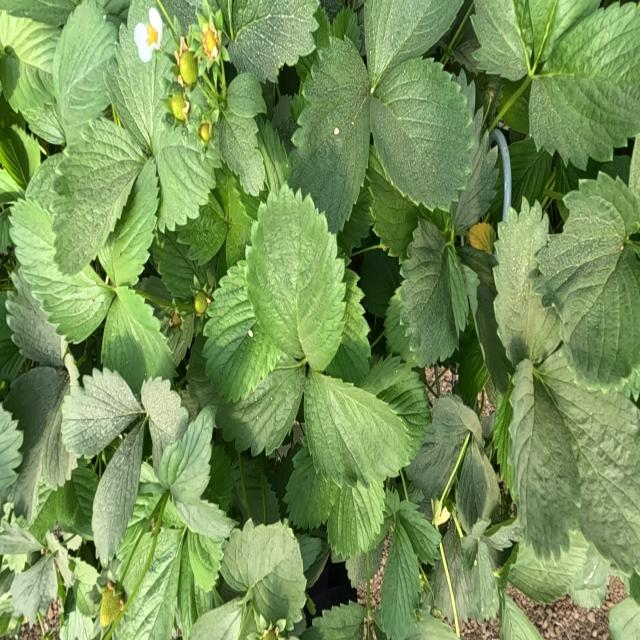Flowers: (134, 12, 161, 62)
Leaves: (521, 350, 639, 571), (538, 175, 639, 390), (246, 184, 346, 370), (531, 4, 639, 167), (502, 359, 580, 563), (288, 40, 370, 233), (372, 58, 474, 210), (53, 118, 146, 274), (16, 201, 114, 343), (304, 372, 413, 495), (492, 200, 559, 363), (204, 263, 277, 403), (3, 368, 68, 522), (219, 339, 305, 452), (109, 0, 172, 152), (472, 0, 590, 80), (51, 4, 117, 143), (393, 220, 456, 363), (221, 521, 305, 624), (115, 521, 188, 638), (458, 244, 512, 393), (365, 0, 463, 82), (1, 21, 64, 144), (102, 287, 173, 395), (99, 163, 159, 286), (230, 0, 319, 80), (62, 369, 142, 457), (92, 428, 143, 563), (154, 118, 215, 228), (406, 395, 468, 499), (360, 356, 429, 449), (367, 151, 420, 260), (236, 114, 288, 219), (5, 274, 62, 368), (158, 409, 213, 503), (326, 270, 371, 384), (378, 519, 419, 639), (327, 480, 384, 561), (510, 543, 586, 602), (454, 134, 499, 230), (433, 520, 474, 624), (284, 446, 335, 529), (456, 435, 499, 533), (212, 170, 253, 267), (142, 378, 188, 464), (219, 114, 265, 196), (0, 98, 41, 189), (10, 552, 58, 623), (177, 196, 227, 264), (234, 454, 279, 523), (464, 530, 498, 620), (188, 594, 255, 639), (58, 465, 98, 539), (151, 232, 196, 297), (511, 137, 551, 209), (295, 6, 331, 82), (359, 250, 400, 316), (455, 328, 489, 407), (170, 499, 232, 541), (187, 334, 222, 407), (399, 502, 440, 563), (300, 602, 366, 639), (499, 585, 543, 639), (338, 188, 373, 255), (0, 292, 26, 382), (0, 520, 42, 571), (203, 445, 234, 513), (29, 488, 66, 543), (188, 533, 223, 591), (1, 403, 23, 489), (226, 73, 266, 120), (332, 7, 361, 50), (503, 86, 529, 133), (501, 84, 515, 103)
Strawberries: (100, 587, 121, 626), (179, 52, 197, 84), (169, 94, 188, 120), (202, 27, 216, 58), (169, 309, 183, 328), (195, 293, 207, 315), (199, 123, 210, 142)
